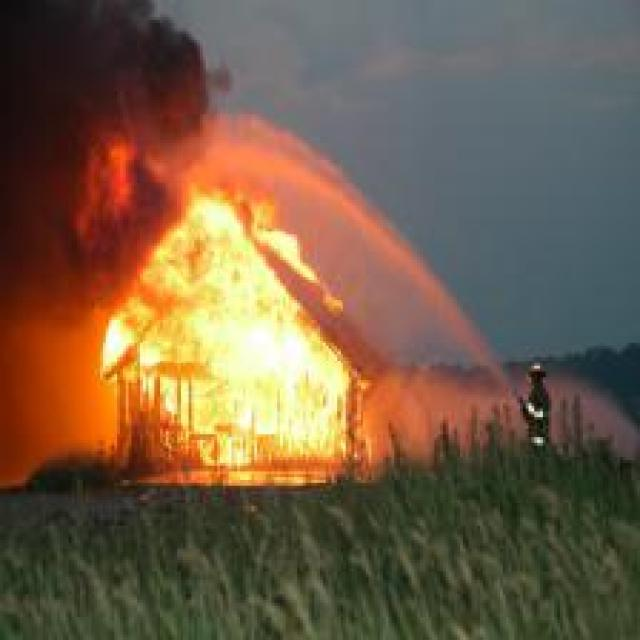Fire: (95, 182, 352, 469)
